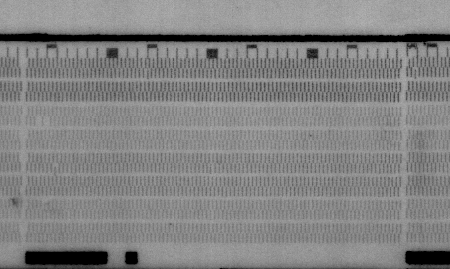Broken hole: (34, 116, 52, 126)
Oblique printing: (141, 66, 154, 82), (50, 163, 62, 177), (410, 67, 421, 81)
